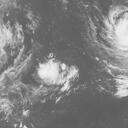cyclone: (101, 3, 127, 68), (37, 59, 80, 87)
